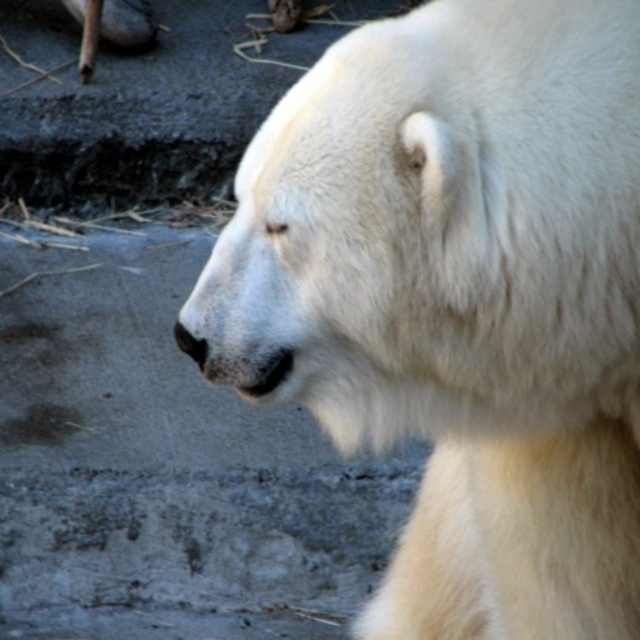Polar bear: (167, 0, 639, 639)
